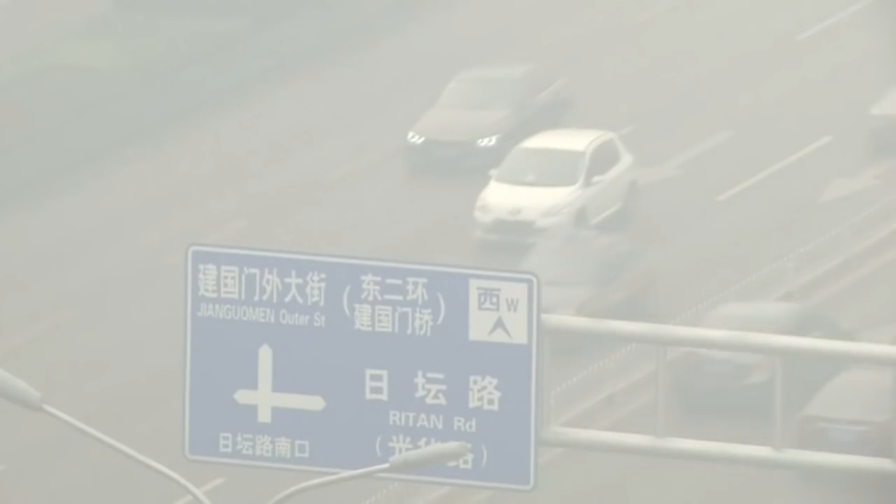car: (660, 298, 868, 420), (469, 124, 642, 254), (406, 59, 584, 181), (497, 229, 659, 355), (788, 363, 896, 489)
